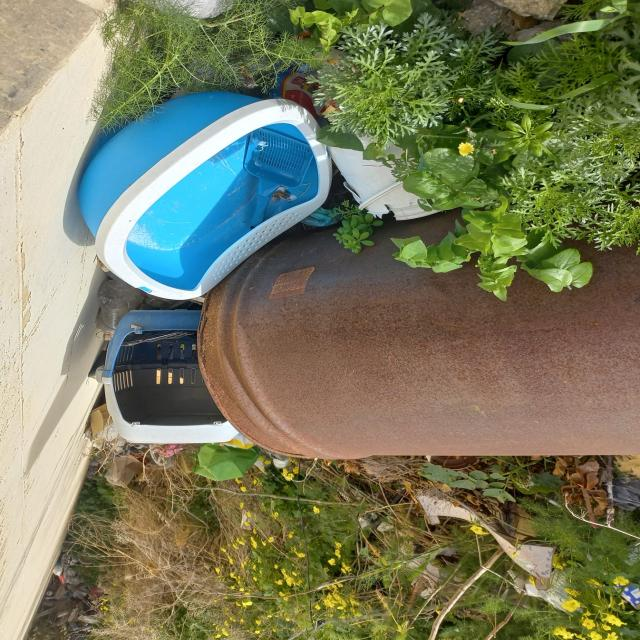Bottle: (96, 277, 140, 330)
Carton: (415, 494, 553, 592), (591, 566, 640, 610)
Other litter: (193, 214, 640, 462), (105, 443, 183, 487), (42, 553, 102, 604), (84, 403, 128, 465), (190, 443, 261, 481), (416, 455, 481, 470), (273, 458, 291, 469)
Other plastic: (74, 90, 331, 301), (96, 309, 238, 444), (326, 134, 452, 221), (263, 66, 335, 119), (526, 564, 588, 617), (301, 207, 345, 228), (216, 434, 256, 450), (145, 294, 182, 309)
Plastic bag - wrapper: (613, 462, 640, 512)
